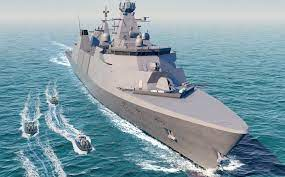Ship: (66, 8, 247, 172)
